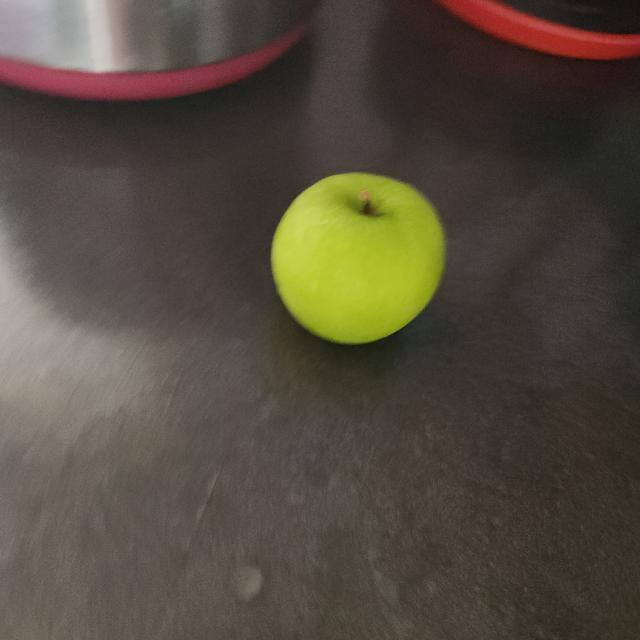apple: (268, 164, 452, 356)
